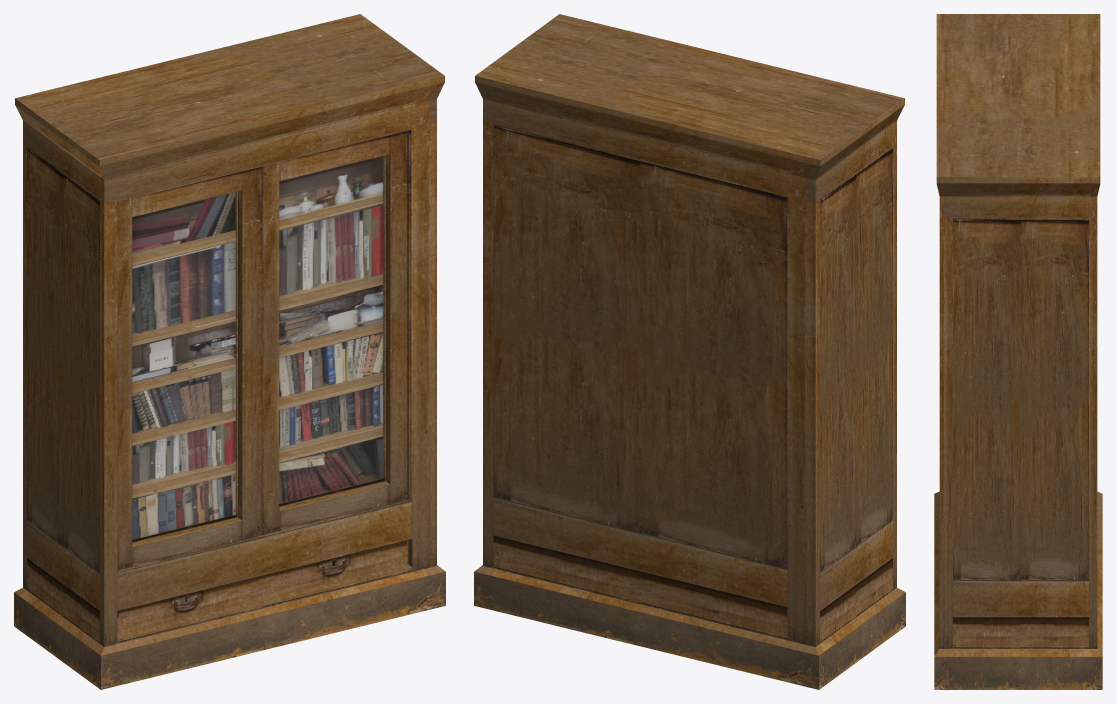
Rendered from ps2_bookshelf.glb.
3 renders of one model, left to right at view 1: azimuth 30°, elevation 25°; view 2: azimuth 150°, elevation 25°; view 3: azimuth 270°, elevation 25°, orthographic. The views are drawn at different scales.
Visible parts, largest first — view 1: servant_1.001; view 2: servant_1.001; view 3: servant_1.001.
Boxes of the visible parts, box(x1,y1,x2,y2) form: servant_1.001: box(14, 14, 445, 689); servant_1.001: box(474, 14, 905, 689); servant_1.001: box(934, 14, 1102, 689).
Bounding box in the file's own units: 1.36 × 2 × 0.5943.
3 materials, 3 textured.
